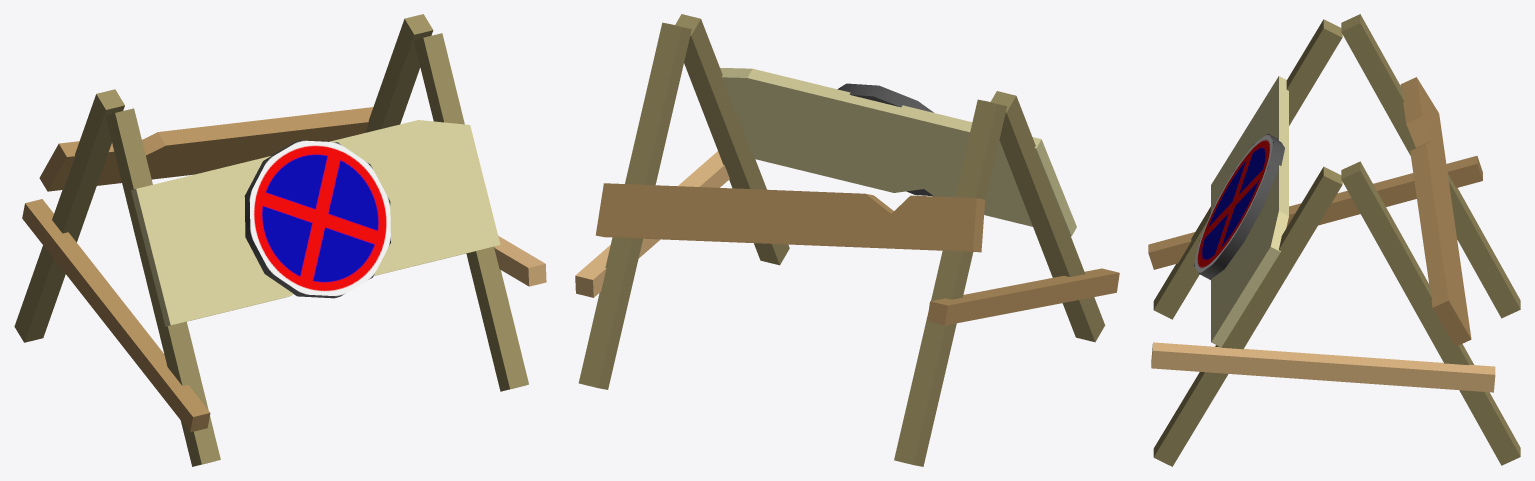
File: barrier_2_destroy.fbx
The picture shows the model from 3 angles, left to right: view 1: azimuth 30°, elevation 25°; view 2: azimuth 150°, elevation 25°; view 3: azimuth 270°, elevation 25°; orthographic projection. The views are drawn at different scales.
Visible parts, largest first — view 1: barrier_2_destroy.007, barrier_2_destroy.008, barrier_2_destroy.006, barrier_2_destroy.004, barrier_2_destroy.003, barrier_2_destroy, barrier_2_destroy.001, barrier_2_destroy.002, barrier_2_destroy.005; view 2: barrier_2_destroy.007, barrier_2_destroy.006, barrier_2_destroy.002, barrier_2_destroy, barrier_2_destroy.001, barrier_2_destroy.003, barrier_2_destroy.004, barrier_2_destroy.005, barrier_2_destroy.008; view 3: barrier_2_destroy.005, barrier_2_destroy.007, barrier_2_destroy.006, barrier_2_destroy.002, barrier_2_destroy.003, barrier_2_destroy, barrier_2_destroy.008, barrier_2_destroy.001, barrier_2_destroy.004.
Part boxes in pixels (x1,y1,x2,y2): barrier_2_destroy.007: [131, 120, 500, 326]; barrier_2_destroy.008: [244, 140, 390, 298]; barrier_2_destroy.006: [39, 107, 373, 191]; barrier_2_destroy.004: [22, 199, 210, 432]; barrier_2_destroy.003: [414, 33, 528, 391]; barrier_2_destroy: [14, 89, 124, 342]; barrier_2_destroy.001: [105, 108, 220, 466]; barrier_2_destroy.002: [365, 14, 433, 132]; barrier_2_destroy.005: [494, 236, 546, 286]; barrier_2_destroy.007: [720, 67, 1076, 236]; barrier_2_destroy.006: [595, 183, 984, 252]; barrier_2_destroy.002: [578, 22, 691, 389]; barrier_2_destroy: [894, 99, 1006, 466]; barrier_2_destroy.001: [990, 91, 1105, 342]; barrier_2_destroy.003: [675, 14, 789, 265]; barrier_2_destroy.004: [927, 268, 1119, 325]; barrier_2_destroy.005: [575, 151, 729, 297]; barrier_2_destroy.008: [837, 83, 933, 196]; barrier_2_destroy.005: [1151, 342, 1495, 392]; barrier_2_destroy.007: [1211, 76, 1288, 347]; barrier_2_destroy.006: [1400, 77, 1471, 346]; barrier_2_destroy.002: [1341, 161, 1520, 465]; barrier_2_destroy.003: [1153, 166, 1342, 466]; barrier_2_destroy: [1341, 14, 1520, 318]; barrier_2_destroy.008: [1194, 134, 1284, 279]; barrier_2_destroy.001: [1153, 19, 1342, 319]; barrier_2_destroy.004: [1148, 156, 1482, 269].
Size of the model in its own units: 228 by 183 by 209.
